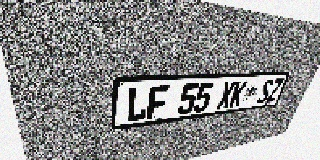5: (177, 83, 199, 115), (193, 83, 214, 113)
F: (146, 85, 169, 120)
K: (228, 81, 248, 108)
L: (126, 86, 150, 122)
S: (256, 79, 275, 104)
X: (216, 81, 236, 110)
Z: (265, 79, 284, 103)
